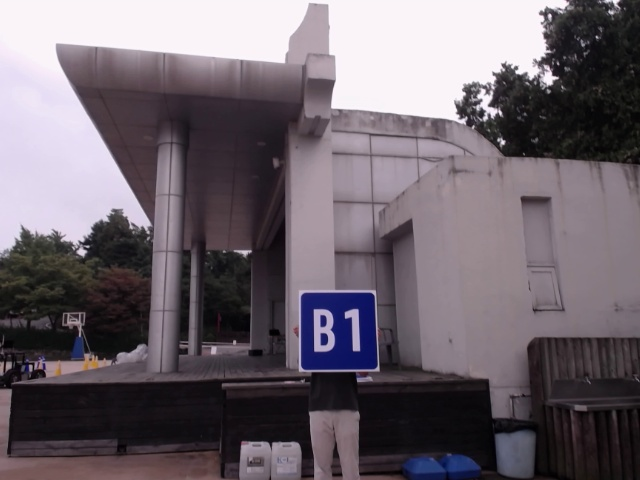delivery_b1: (299, 291, 379, 371)
